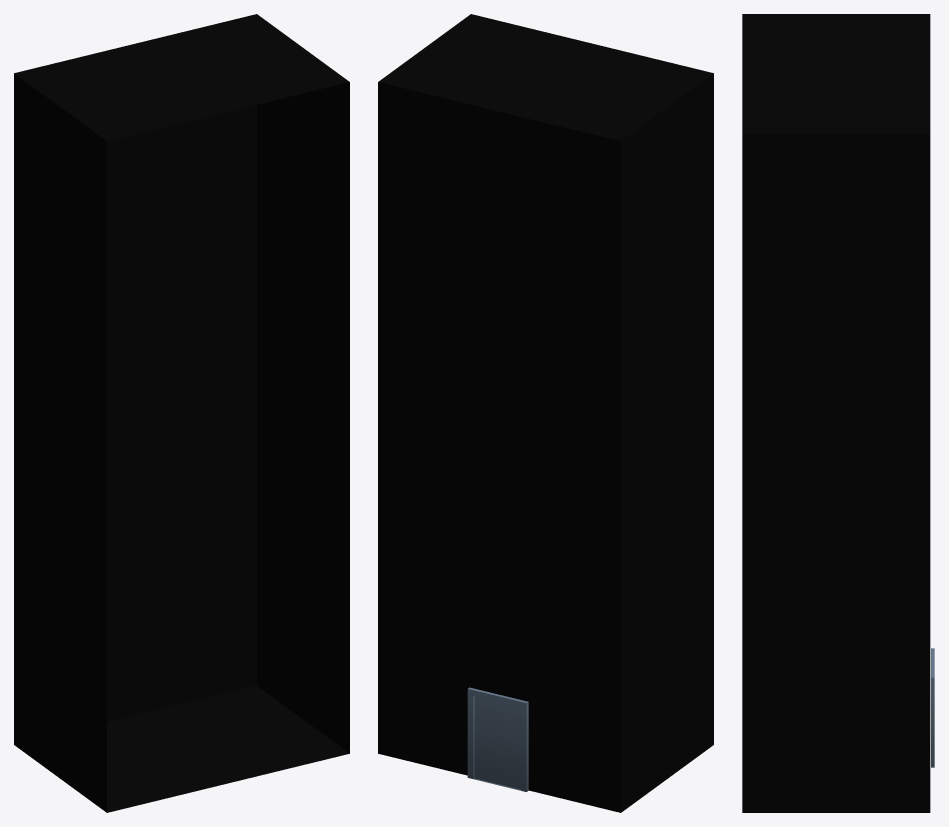
Rendered from Ciudad_Edificio_10.FBX.
The picture shows the model from 3 angles, left to right: view 1: azimuth 30°, elevation 25°; view 2: azimuth 150°, elevation 25°; view 3: azimuth 270°, elevation 25°; orthographic projection.
Parts seen in each view (by area): view 1: Ciudad_Edificio_10; view 2: Ciudad_Edificio_10; view 3: Ciudad_Edificio_10.
Boxes of the visible parts, box(x1,y1,x2,y2) form: Ciudad_Edificio_10: box(14, 14, 349, 812); Ciudad_Edificio_10: box(378, 14, 713, 812); Ciudad_Edificio_10: box(742, 14, 934, 812).
Bounding box in the file's own units: 764 × 519 × 2019.
